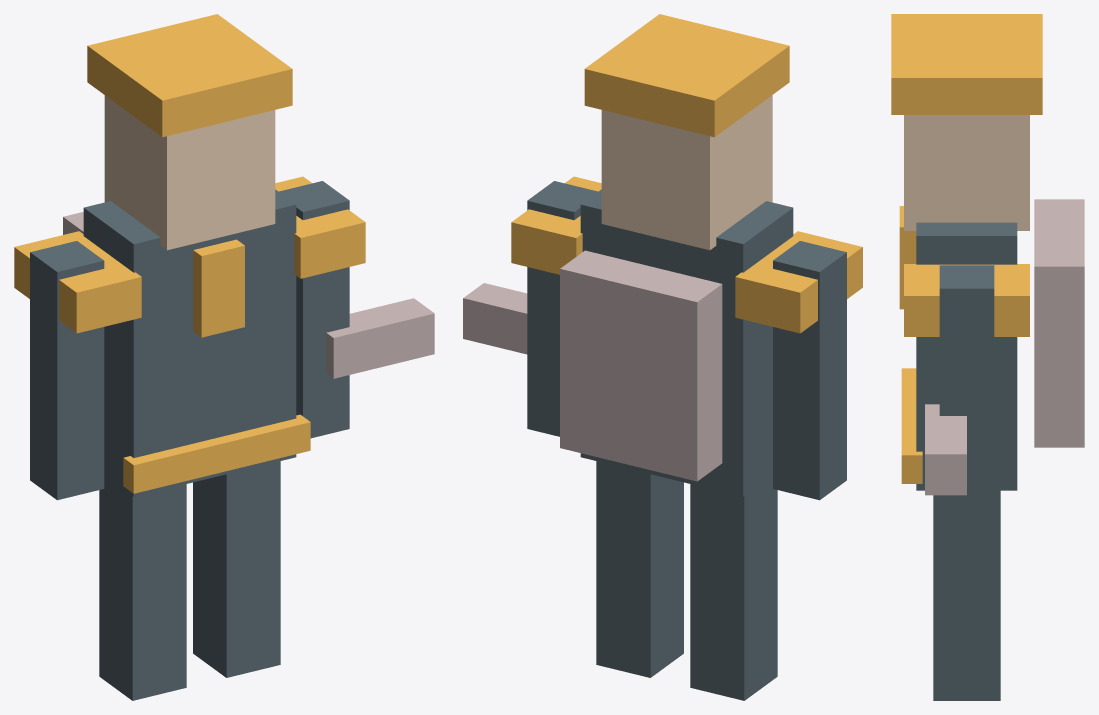
File: 01_soren_rootborne_pilgrim_at_recovery.glb
3 renders of one model, left to right at view 1: azimuth 30°, elevation 25°; view 2: azimuth 150°, elevation 25°; view 3: azimuth 270°, elevation 25°, orthographic.
Visible parts, largest first — view 1: Soren Rootborne, Pilgrim at Recovery; view 2: Soren Rootborne, Pilgrim at Recovery; view 3: Soren Rootborne, Pilgrim at Recovery.
Part boxes in pixels (bbox=[...]): Soren Rootborne, Pilgrim at Recovery: bbox=[14, 14, 434, 700]; Soren Rootborne, Pilgrim at Recovery: bbox=[463, 14, 862, 700]; Soren Rootborne, Pilgrim at Recovery: bbox=[891, 14, 1084, 700].
Bounding box in the file's own units: 1.01 × 1.6 × 0.455.
